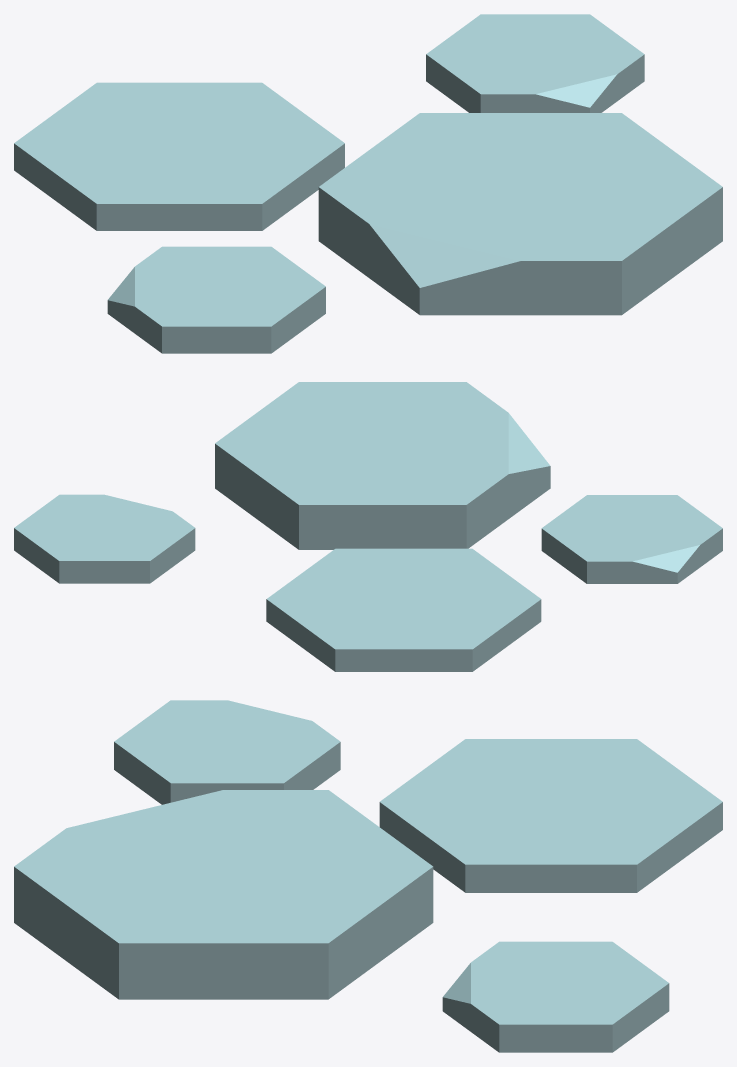
Rendered from path_stoneEnd.dae.
The picture shows the model from 3 angles, top to bottom: view 1: azimuth 30°, elevation 25°; view 2: azimuth 150°, elevation 25°; view 3: azimuth 270°, elevation 25°; orthographic projection. The views are drawn at different scales.
Visible parts, largest first — view 1: path_stoneEnd; view 2: path_stoneEnd; view 3: path_stoneEnd.
Part boxes in pixels (x1,y1,x2,y2): path_stoneEnd: (14, 14, 722, 353); path_stoneEnd: (14, 382, 722, 671); path_stoneEnd: (14, 700, 722, 1052).
Bounding box in the file's own units: 0.6182 × 0.05 × 0.571.
